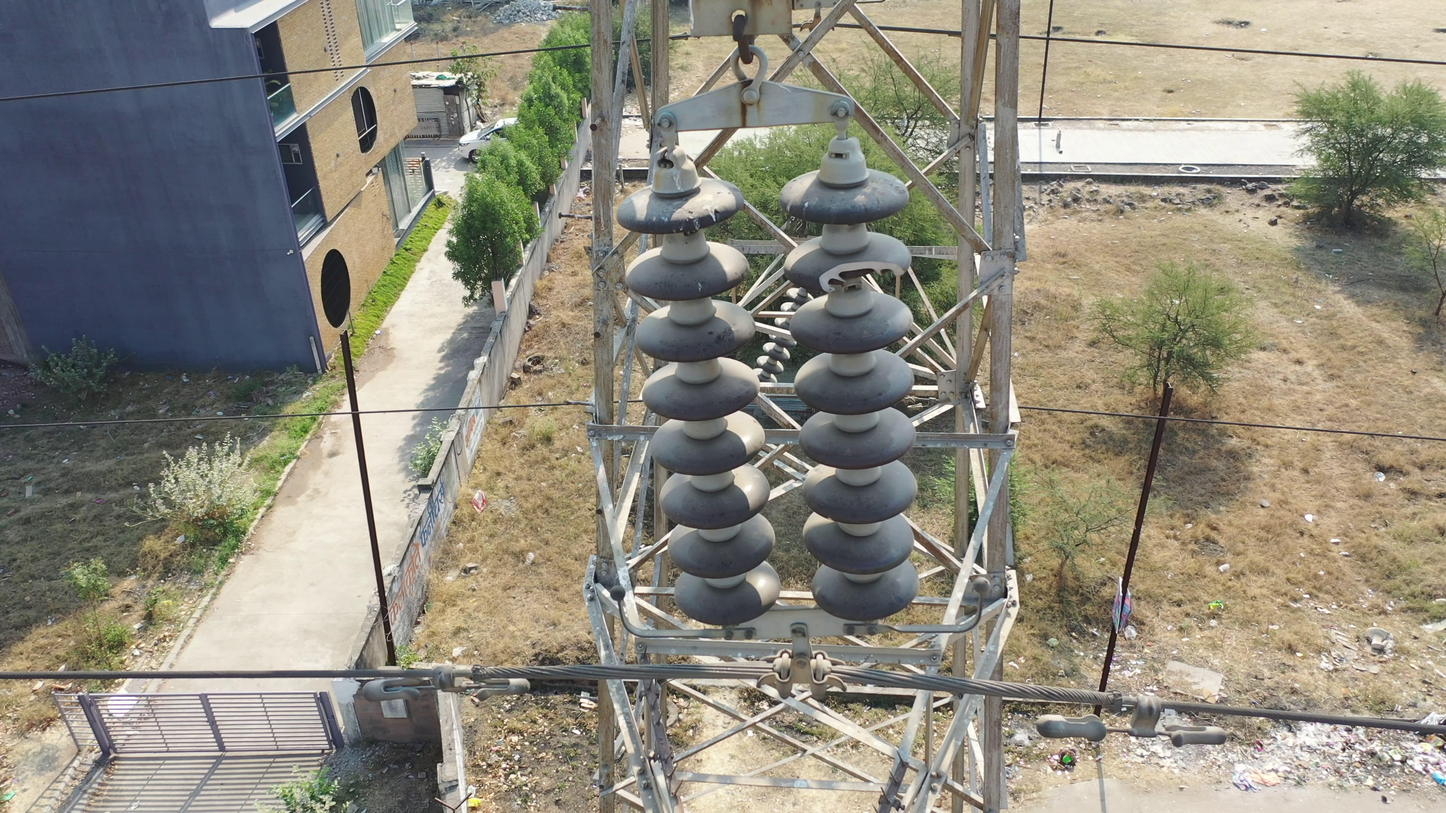broken_insulator: (769, 226, 944, 307)
